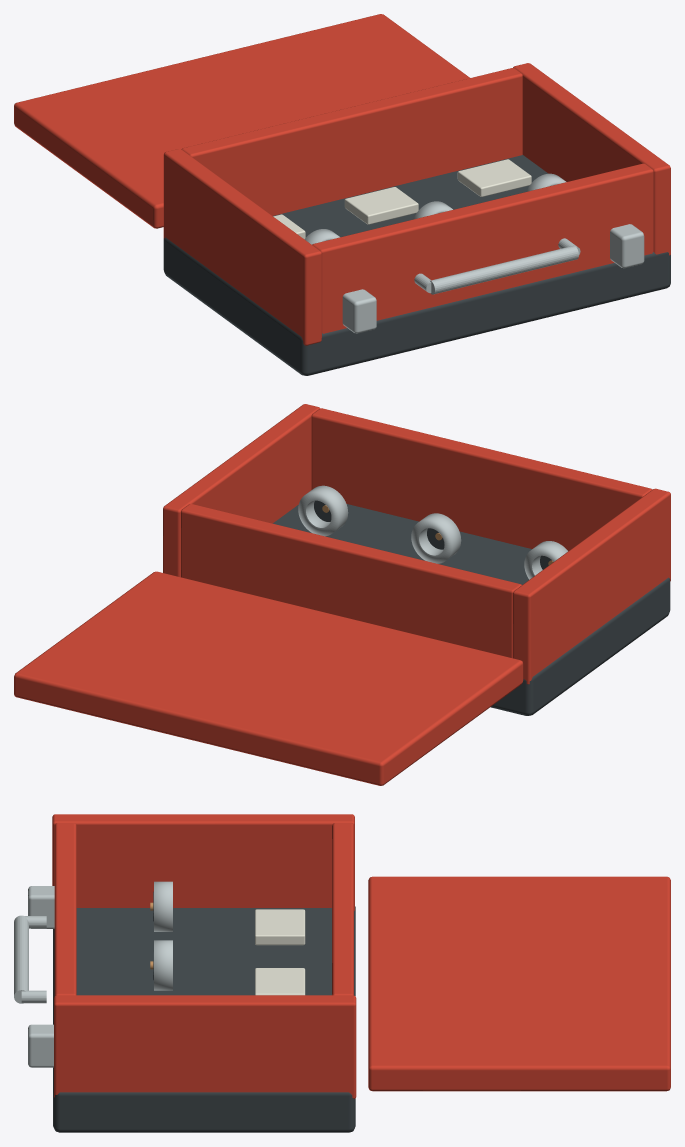
File: broadcast-tower-and-relay-station-broadcast-tower-and--7be40a76__30268.glb
3 views of the same model, one above another, from view 1: azimuth 30°, elevation 25°; view 2: azimuth 150°, elevation 25°; view 3: azimuth 270°, elevation 25° (orthographic). The views are drawn at different scales.
Visible parts, largest first — view 1: broadcast-tower-and-relay-station-connector-tool-case; view 2: broadcast-tower-and-relay-station-connector-tool-case; view 3: broadcast-tower-and-relay-station-connector-tool-case.
Boxes of the visible parts, left/top/right/bottom form: broadcast-tower-and-relay-station-connector-tool-case: left=14, top=14, right=670, bottom=375; broadcast-tower-and-relay-station-connector-tool-case: left=14, top=404, right=670, bottom=785; broadcast-tower-and-relay-station-connector-tool-case: left=14, top=814, right=670, bottom=1132.
Bounding box in the file's own units: 0.7201 × 0.23 × 1.04.
